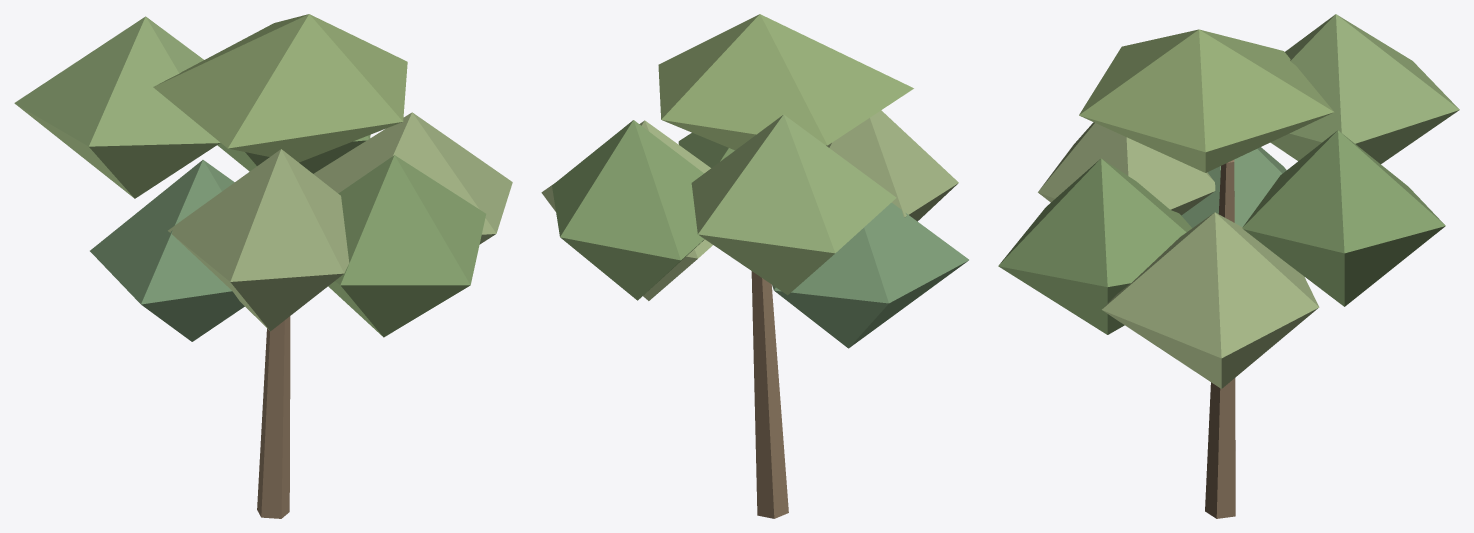
3 renders of one model, left to right at view 1: azimuth 30°, elevation 25°; view 2: azimuth 150°, elevation 25°; view 3: azimuth 270°, elevation 25°, orthographic. The views are drawn at different scales.
Bounding box in the file's own units: 7.08 × 8.33 × 7.05.
